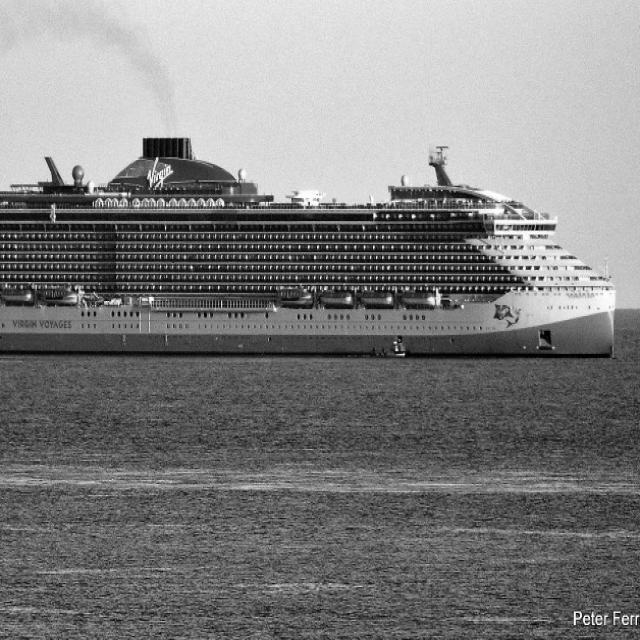cruises: (1, 130, 624, 367)
